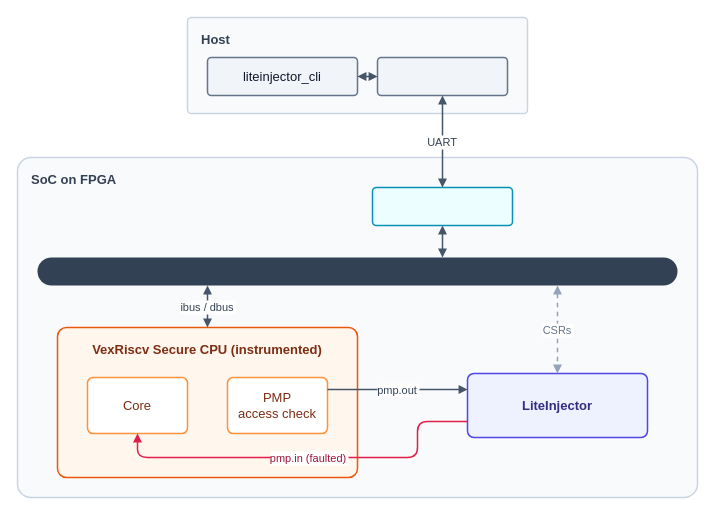
This 716x516 diagram has some shape labels left out. Here are the shapes that lost their labels. From the top down, the centre of each, then its label:
At (442,76): "litex_server".
At (442,206): "UARTBone".
At (357,271): "SoC bus (Wishbone)".
